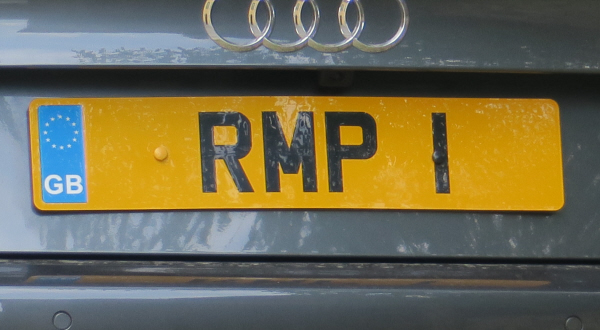license_plate: (27, 97, 564, 211)
